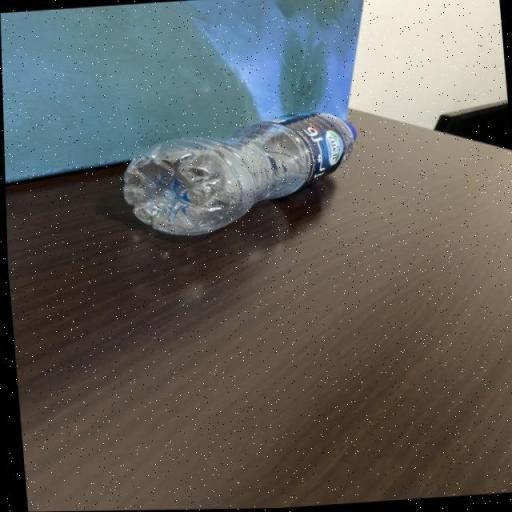plastic: (120, 114, 357, 242)
